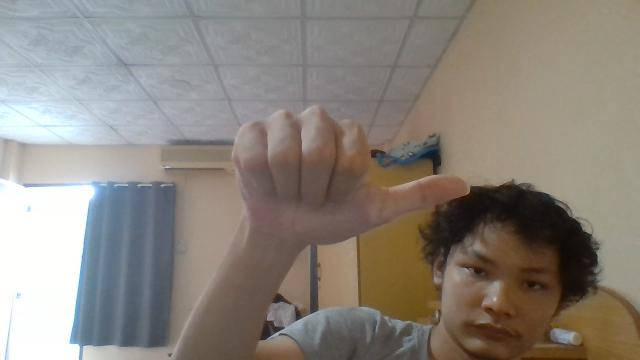left: (230, 103, 470, 246)
